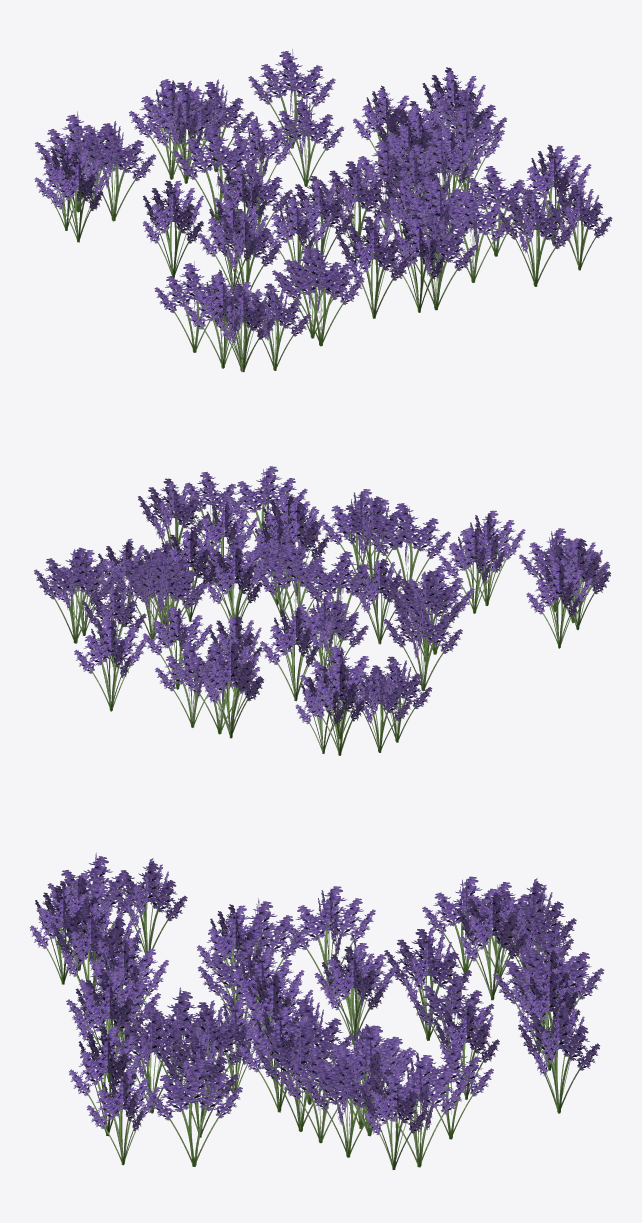
Rendered from lavanda.gltf.
The picture shows the model from 3 angles, top to bottom: view 1: azimuth 30°, elevation 25°; view 2: azimuth 150°, elevation 25°; view 3: azimuth 270°, elevation 25°; orthographic projection. The views are drawn at different scales.
Parts seen in each view (by area): view 1: red-baron-grass-ornamental-Va7qqJC-600.001_red-baron-grass-o, red-baron-grass-ornamental-Va7qqJC-600_red-baron-grass-ornam; view 2: red-baron-grass-ornamental-Va7qqJC-600_red-baron-grass-ornam, red-baron-grass-ornamental-Va7qqJC-600.001_red-baron-grass-o; view 3: red-baron-grass-ornamental-Va7qqJC-600_red-baron-grass-ornam, red-baron-grass-ornamental-Va7qqJC-600.001_red-baron-grass-o.
Part boxes in pixels (<box>): red-baron-grass-ornamental-Va7qqJC-600.001_red-baron-grass-o: <box>34,51,612,371</box>; red-baron-grass-ornamental-Va7qqJC-600_red-baron-grass-ornam: <box>34,49,599,372</box>; red-baron-grass-ornamental-Va7qqJC-600_red-baron-grass-ornam: <box>64,468,610,755</box>; red-baron-grass-ornamental-Va7qqJC-600.001_red-baron-grass-o: <box>34,466,611,755</box>; red-baron-grass-ornamental-Va7qqJC-600_red-baron-grass-ornam: <box>30,856,599,1169</box>; red-baron-grass-ornamental-Va7qqJC-600.001_red-baron-grass-o: <box>35,852,604,1169</box>.
Bounding box in the file's own units: 187 × 44.54 × 183.
1 material, 1 textured.
